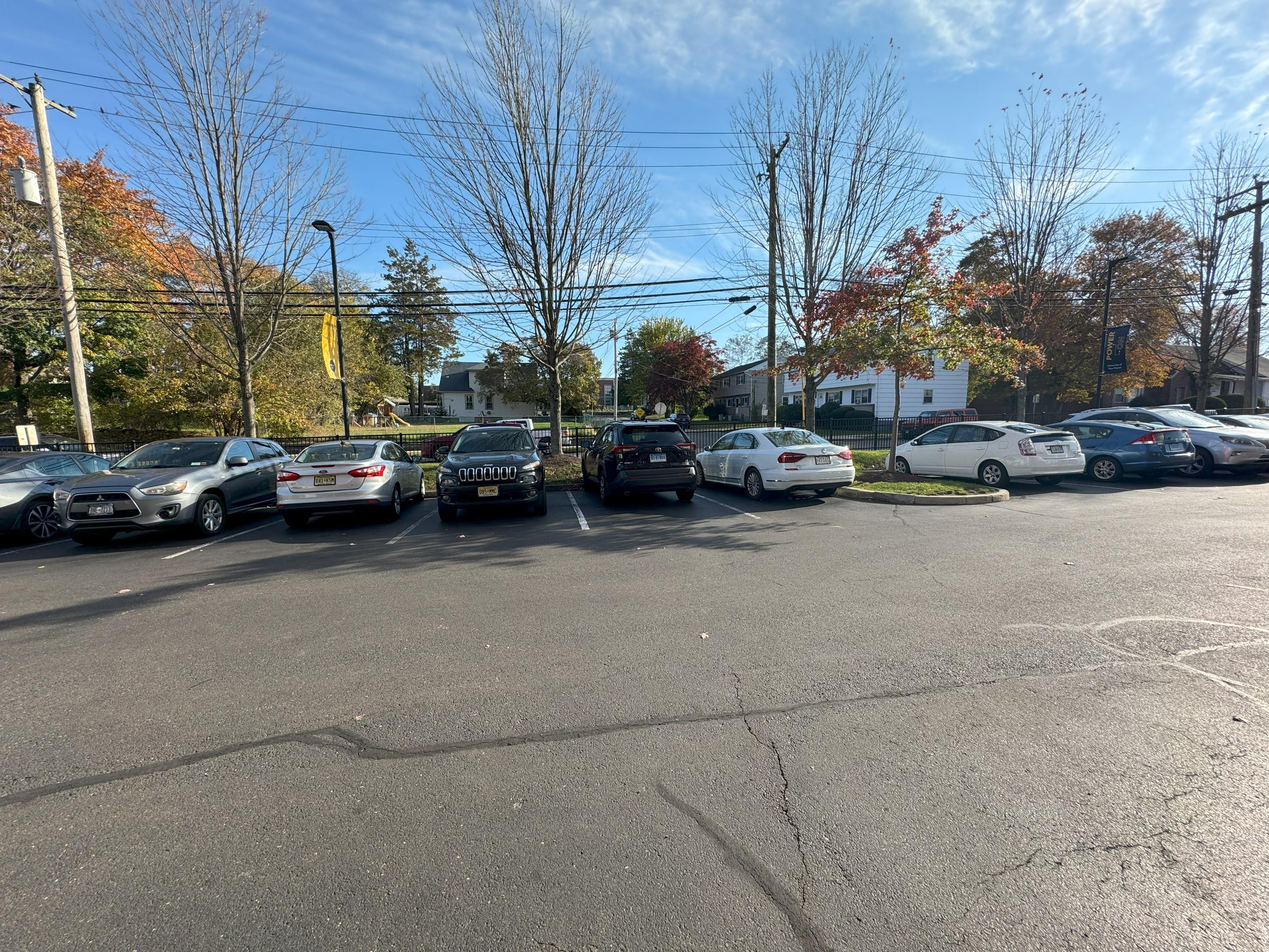occupied: (60, 426, 252, 562), (265, 404, 421, 536), (894, 404, 1083, 511), (429, 410, 557, 541), (712, 407, 864, 516), (1099, 400, 1242, 499), (583, 407, 700, 524)
